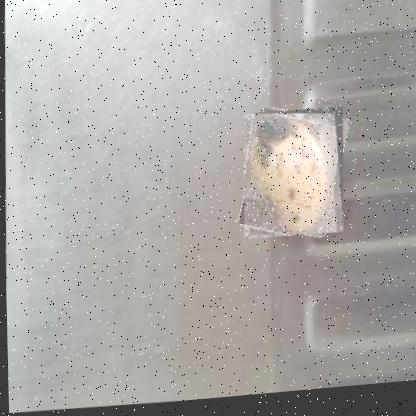mango_rotten: (239, 109, 344, 244)
